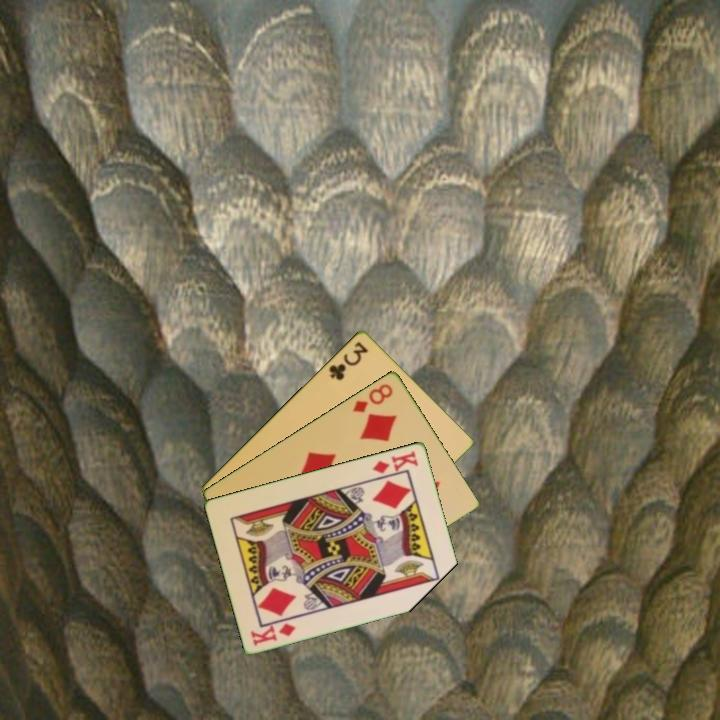3c: (325, 337, 371, 383)
8d: (349, 380, 396, 415)
Kd: (247, 619, 299, 649), (369, 447, 421, 476)
